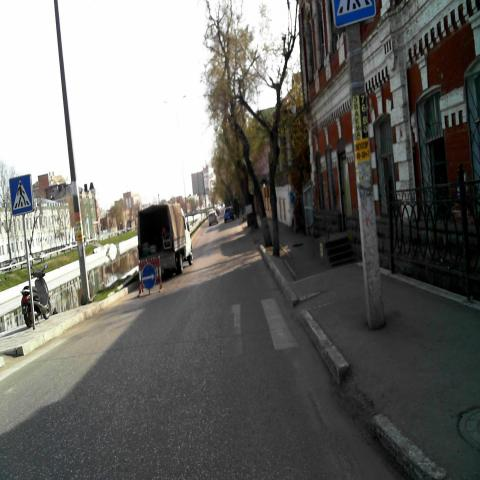4_1_2_1: (141, 262, 157, 288)
